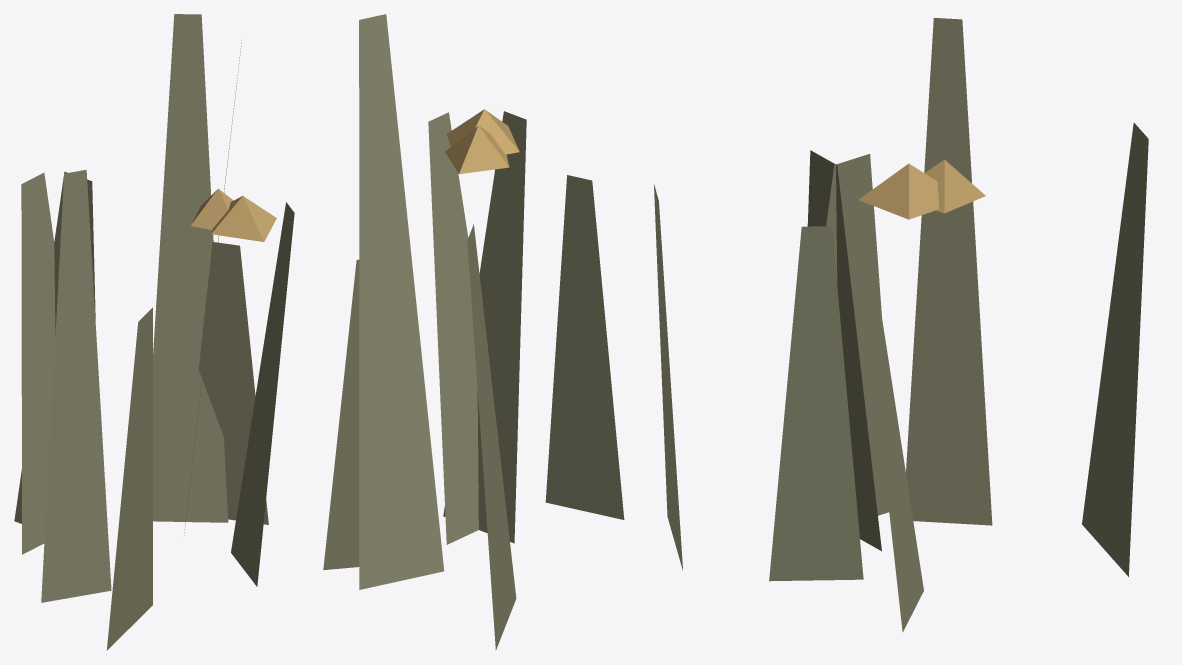
The model's file is crop.temp.rice__winter.glb.
3 views of the same model, side by side, from view 1: azimuth 30°, elevation 25°; view 2: azimuth 150°, elevation 25°; view 3: azimuth 270°, elevation 25° (orthographic). The views are drawn at different scales.
Parts seen in each view (by area): view 1: crop.temp.rice__winter; view 2: crop.temp.rice__winter; view 3: crop.temp.rice__winter.
Part boxes in pixels (box(x1,y1,x2,y2)): crop.temp.rice__winter: box(14, 14, 294, 650); crop.temp.rice__winter: box(323, 14, 682, 649); crop.temp.rice__winter: box(769, 18, 1148, 632).
Size of the model in its own units: 0.4922 by 0.8973 by 0.5649.
